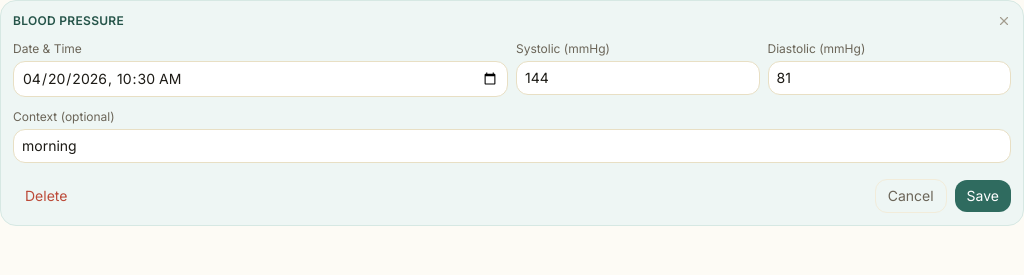
Test: VitalEditRow › delete › shows an error message when delete fails
Click the button with aria-label "delete reading".
click(46, 196)  # box x1=13 y1=180 x2=79 y2=212
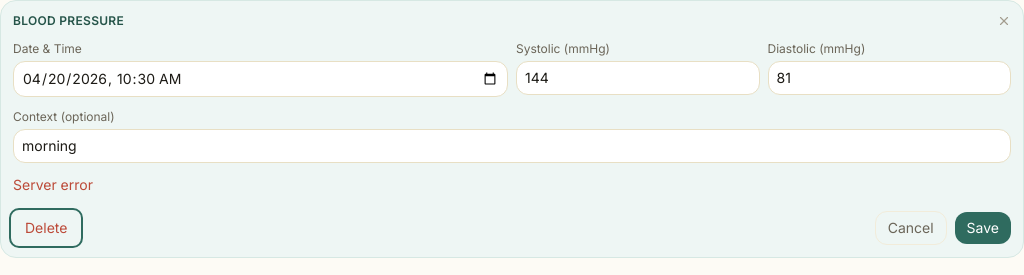
expect the text "Server error" is shown: met, box x1=13 y1=176 x2=93 y2=193
